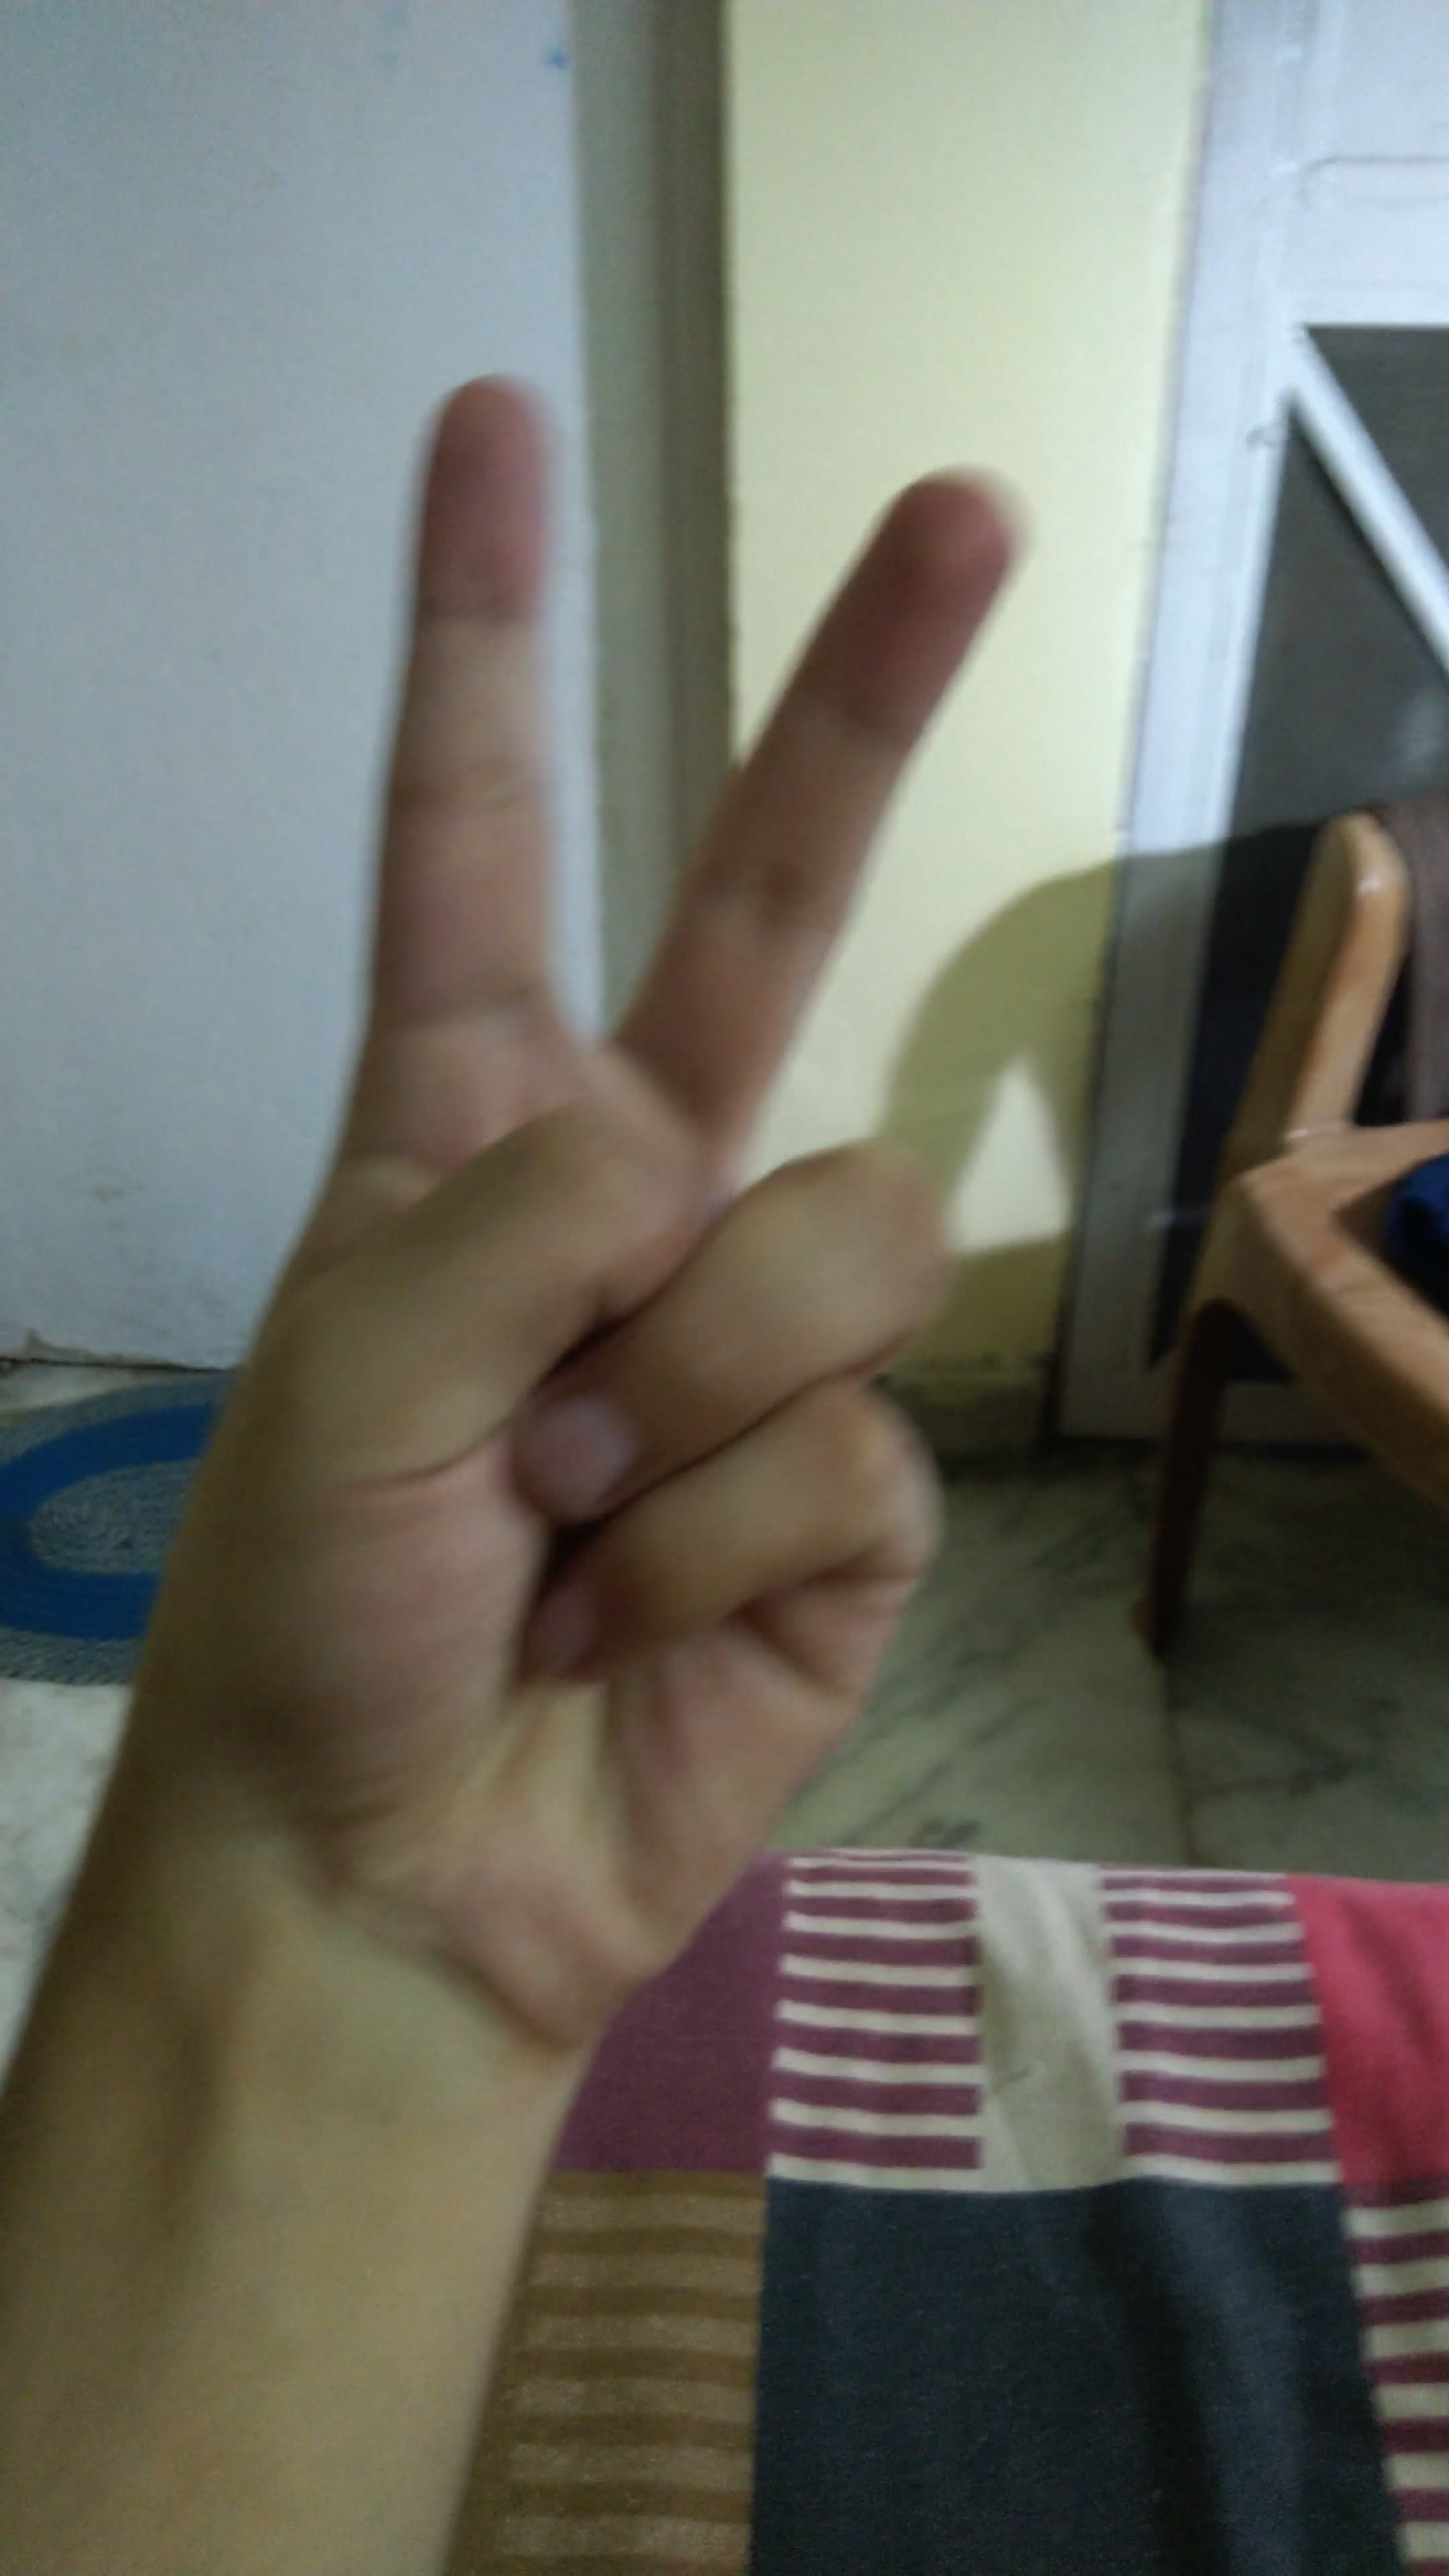hand: (94, 343, 1125, 2104)
